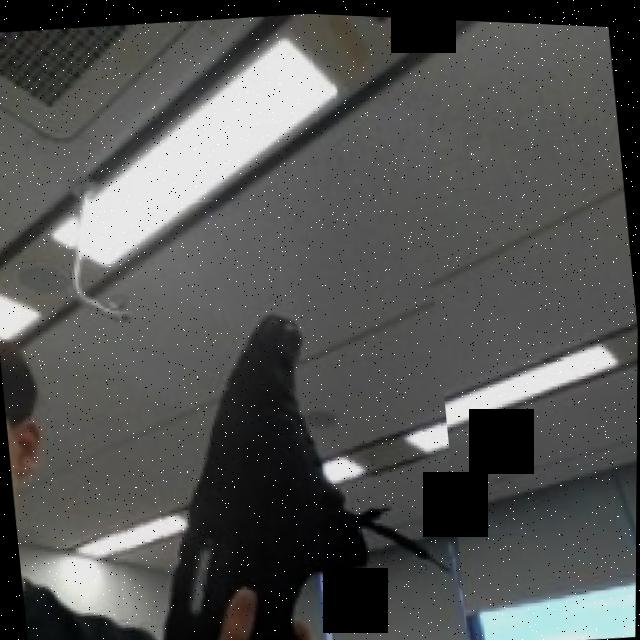shoe: (85, 251, 472, 640)
